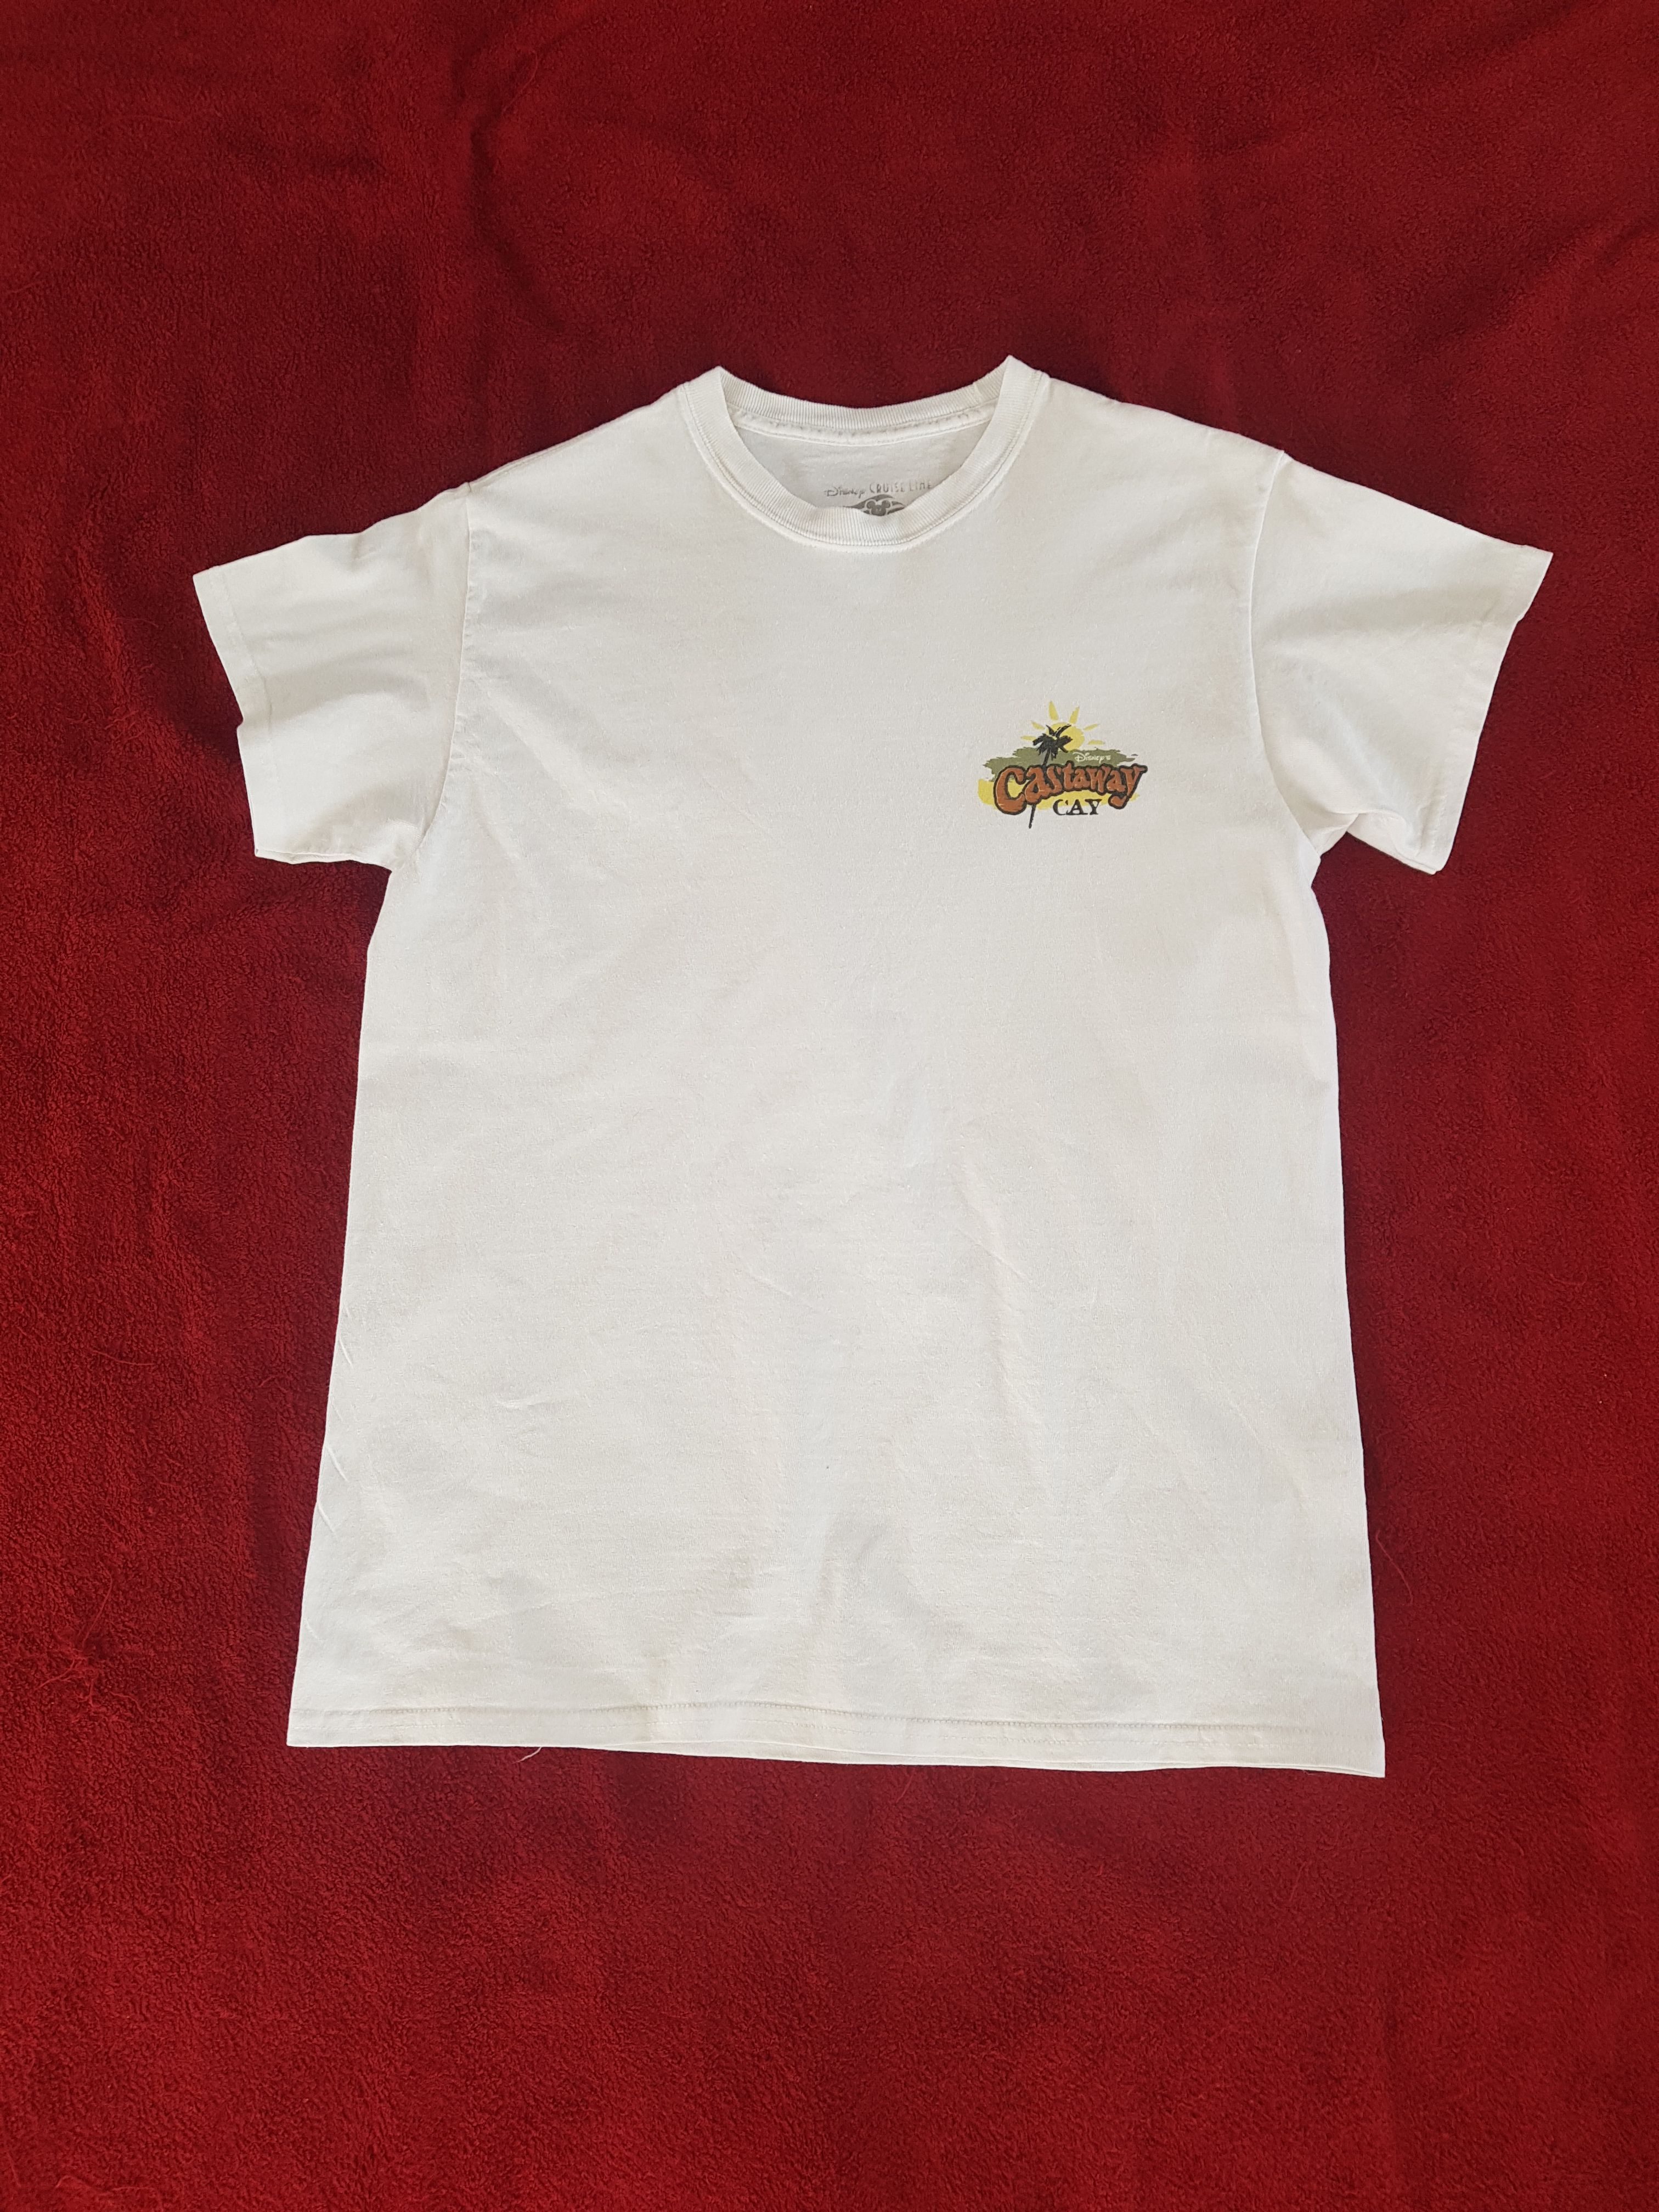clothes: (166, 383, 1535, 1803)
